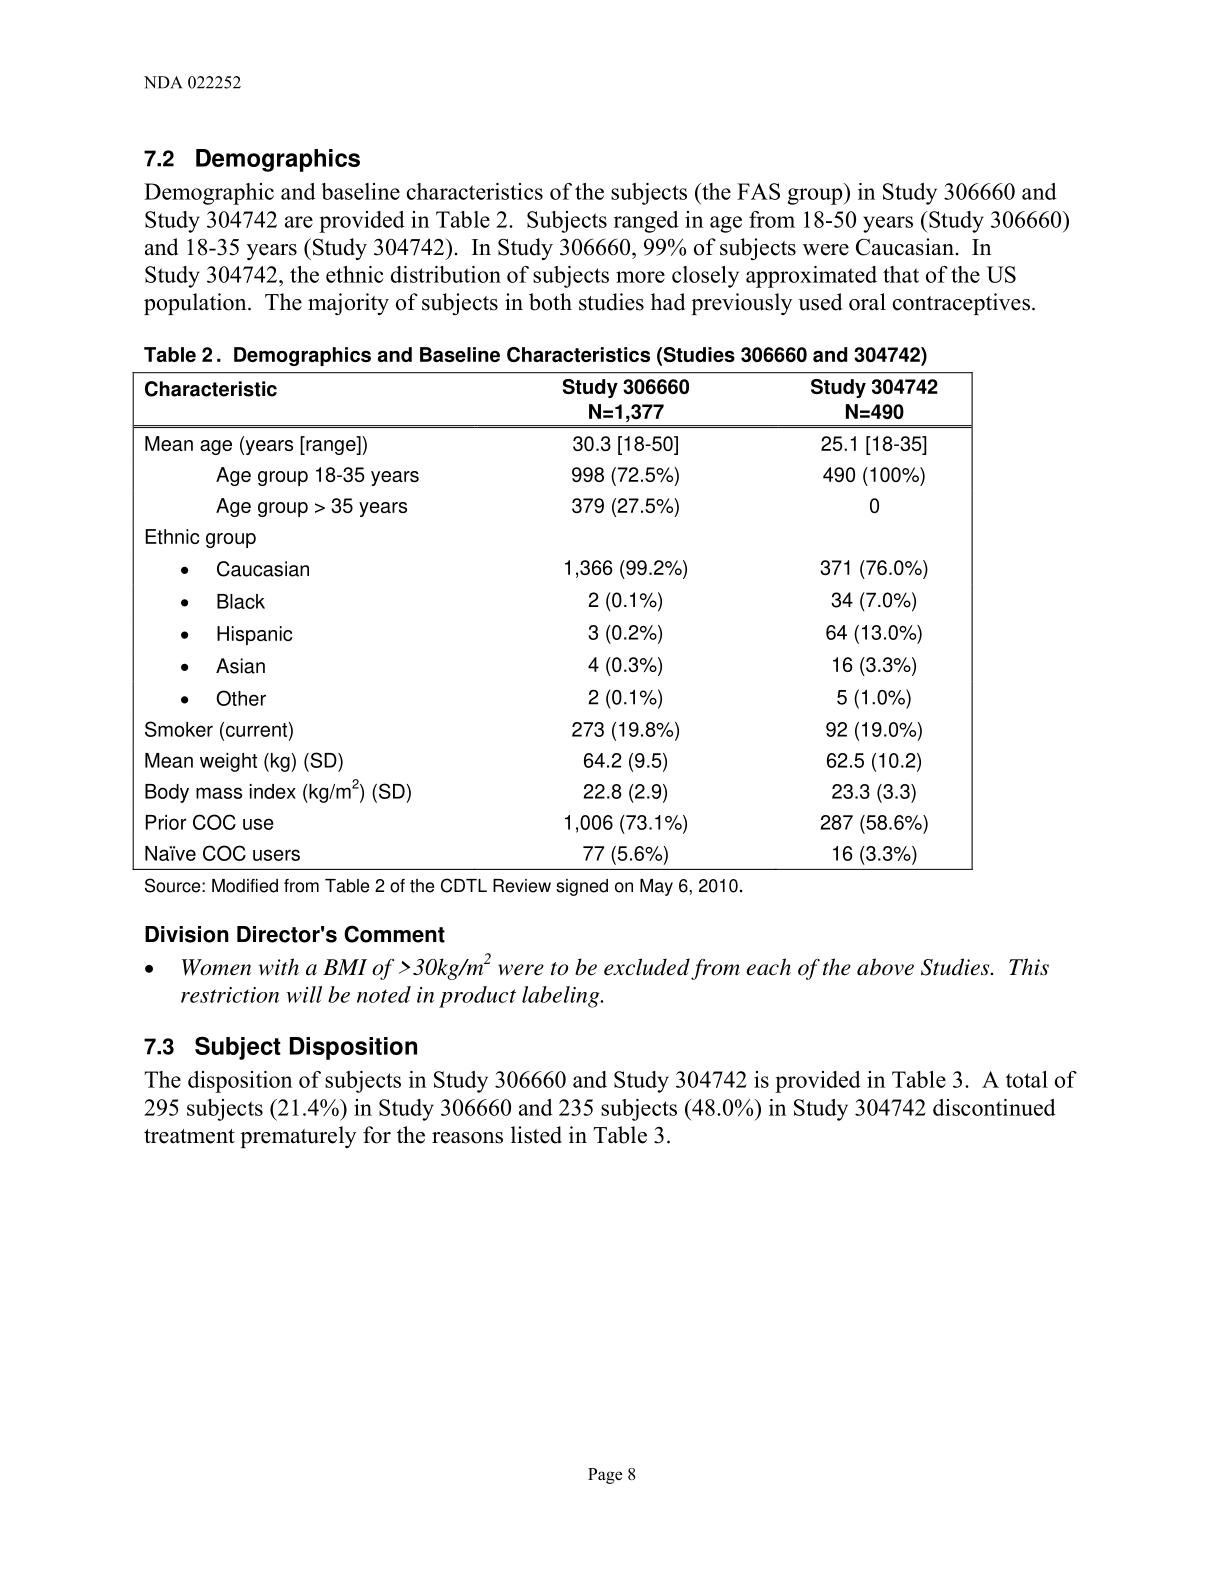partial_lined: (131, 372, 973, 870)
